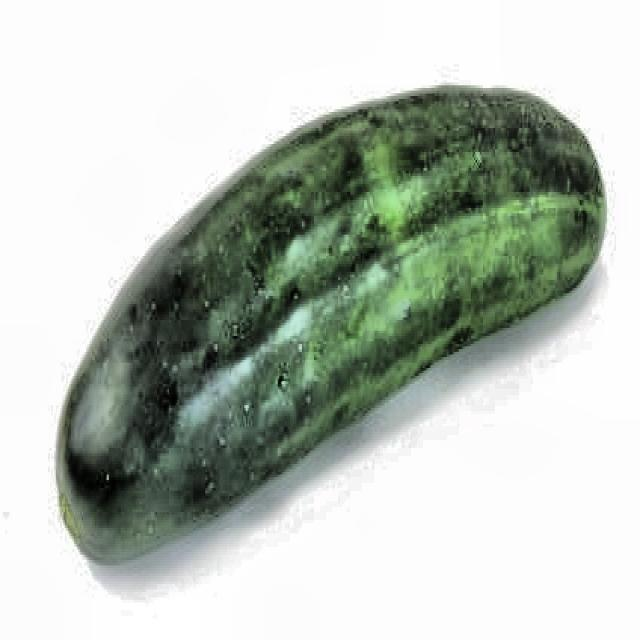cucumber: (26, 50, 615, 596)
